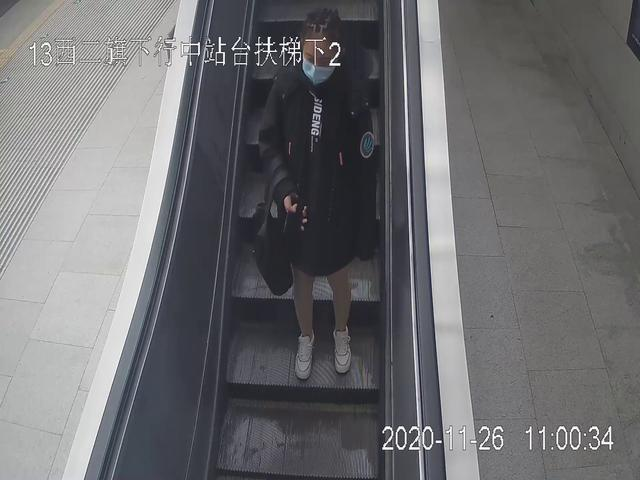person: (255, 6, 376, 380)
